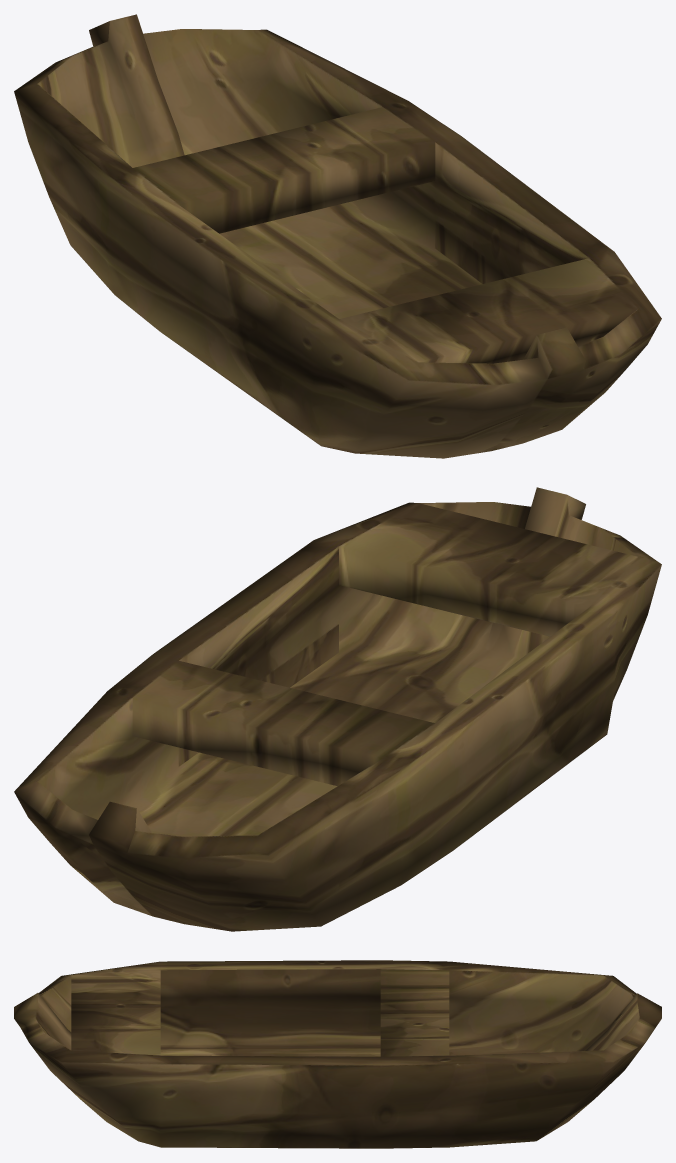
Rendered from boat3.fbx.
3 renders of one model, top to bottom at view 1: azimuth 30°, elevation 25°; view 2: azimuth 150°, elevation 25°; view 3: azimuth 270°, elevation 25°, orthographic. The views are drawn at different scales.
Visible parts, largest first — view 1: Box001; view 2: Box001; view 3: Box001.
Part boxes in pixels (left/top/right/bottom): Box001: left=14, top=14, right=661, bottom=458; Box001: left=14, top=487, right=661, bottom=931; Box001: left=14, top=960, right=661, bottom=1148.
Size of the model in its own units: 70.63 by 33.08 by 184.
